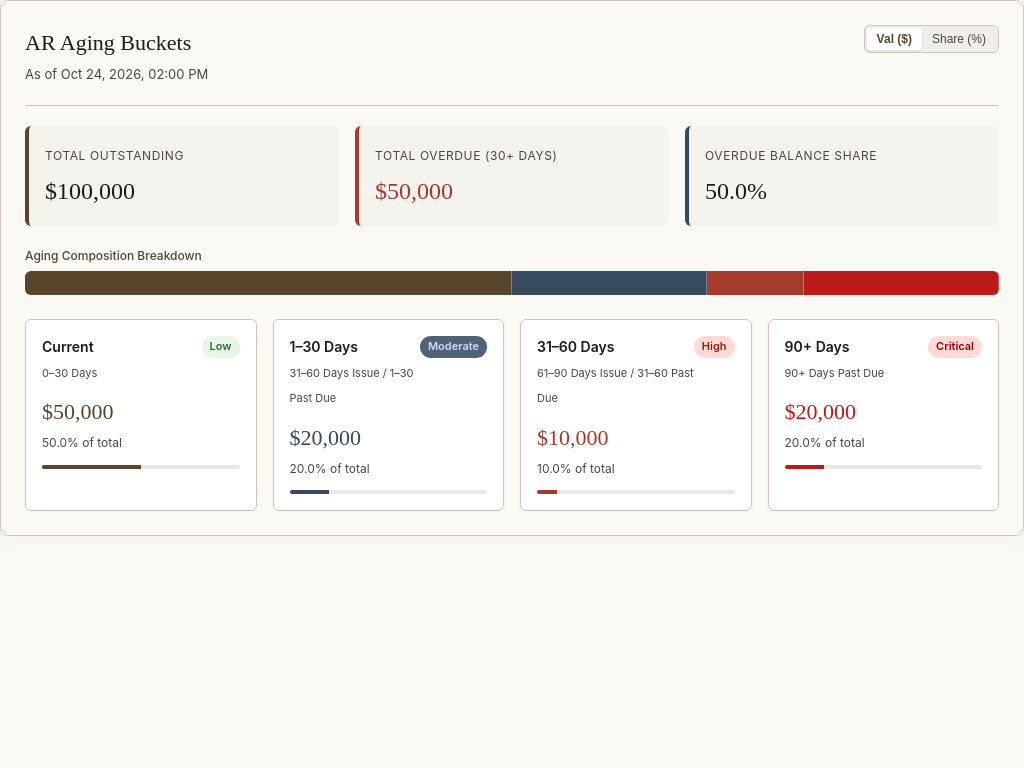
Test: ArAgingChart Component › Component Rendering › toggles between Amount ($) and Share (%) view modes
The image size is (1024, 768).
Click the button with test id "ar-aging-chart-view-pct-btn".
click(959, 39)  # box 922,28 -> 996,50
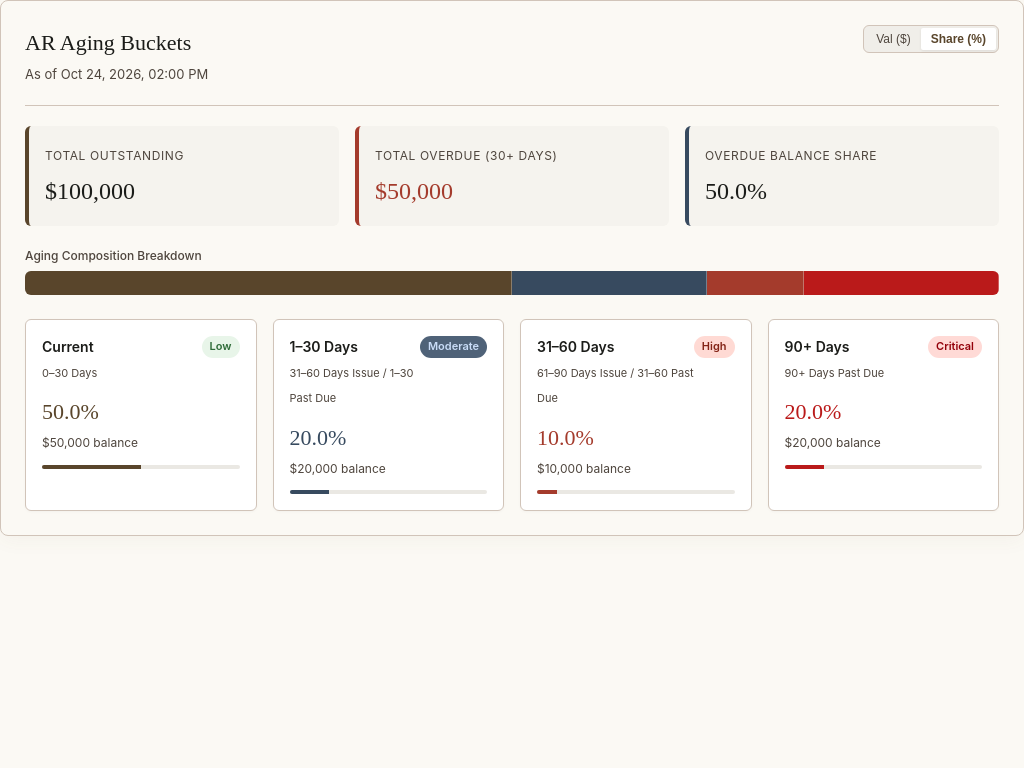
Check: the text with test id "ar-aging-chart-card-value-current" reads "50.0%", box 42,399 -> 99,424
Check: the text with test id "ar-aging-chart-card-value-bucket_30" reads "20.0%", box 290,425 -> 346,450
Click the button with test id "ar-aging-chart-view-amount-btn".
click(893, 39)  # box 866,28 -> 921,50
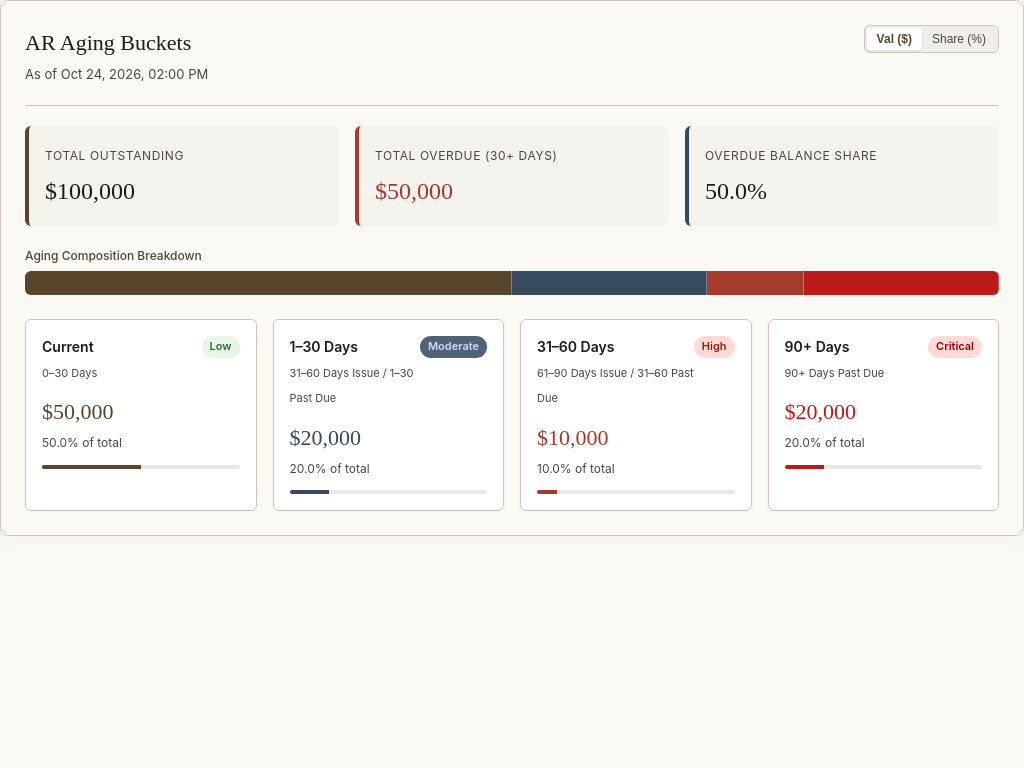
Check: the text with test id "ar-aging-chart-card-value-current" reads "$50,000", box 42,399 -> 114,424
